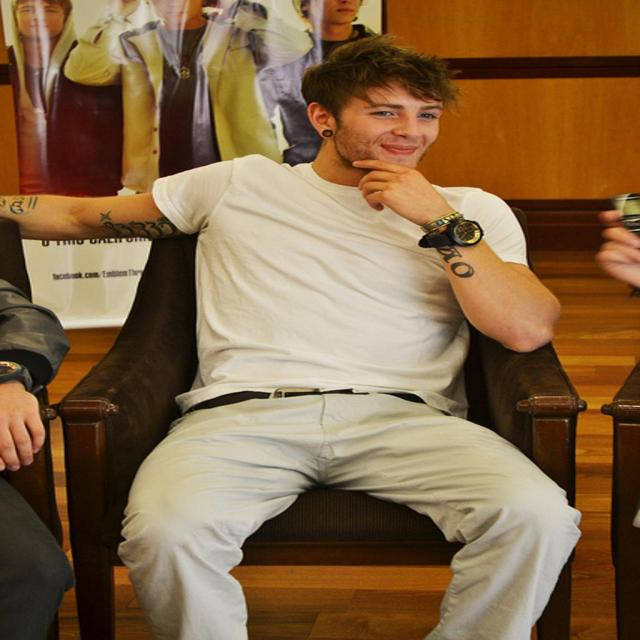Face: (318, 74, 447, 179)
